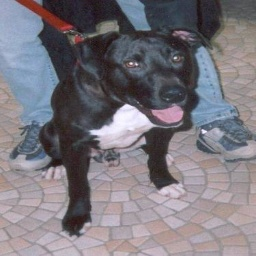dog: (32, 23, 208, 244)
